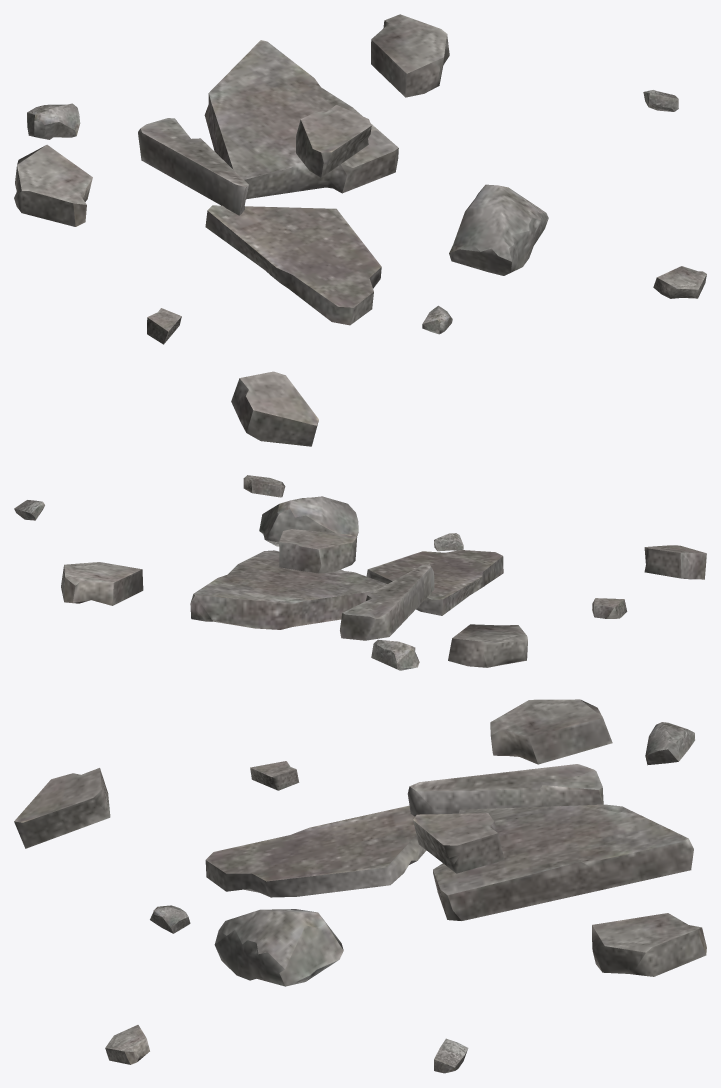
Rendered from debris_scatter_d_mossy.glb.
3 renders of one model, top to bottom at view 1: azimuth 30°, elevation 25°; view 2: azimuth 150°, elevation 25°; view 3: azimuth 270°, elevation 25°, orthographic. The views are drawn at different scales.
Parts seen in each view (by area): view 1: debris_scatter_d_mossy; view 2: debris_scatter_d_mossy; view 3: debris_scatter_d_mossy.
Boxes of the visible parts, x1=… form: debris_scatter_d_mossy: x1=14, y1=14, x2=706, y2=446; debris_scatter_d_mossy: x1=14, y1=475, x2=706, y2=670; debris_scatter_d_mossy: x1=14, y1=699, x2=706, y2=1073.
Bounding box in the file's own units: 0.6243 × 0.1252 × 0.5435.
1 material, 1 textured.
